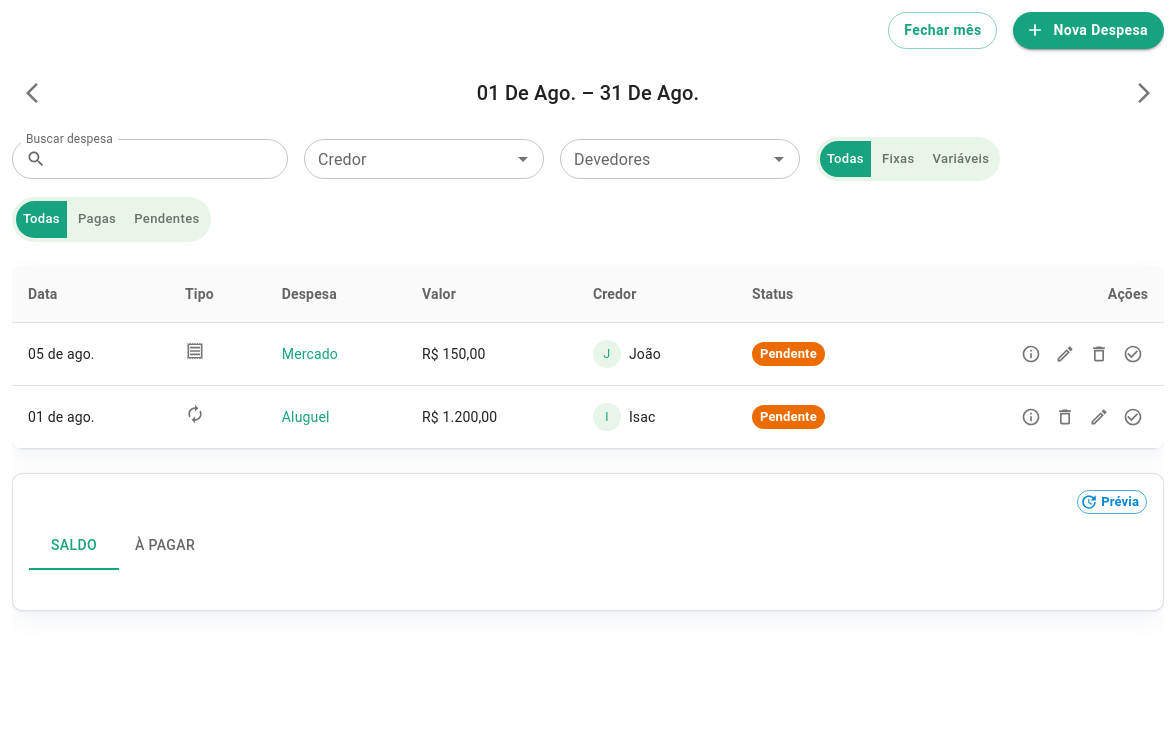
Test: ExpenseManager - listagem em cards › filters by type (Fixas/Variáveis) on the client side
Expected: the link "Aluguel" is shown, [282,409,330,425]
Click the button "Fixas": (898, 159) [874,140,922,177]
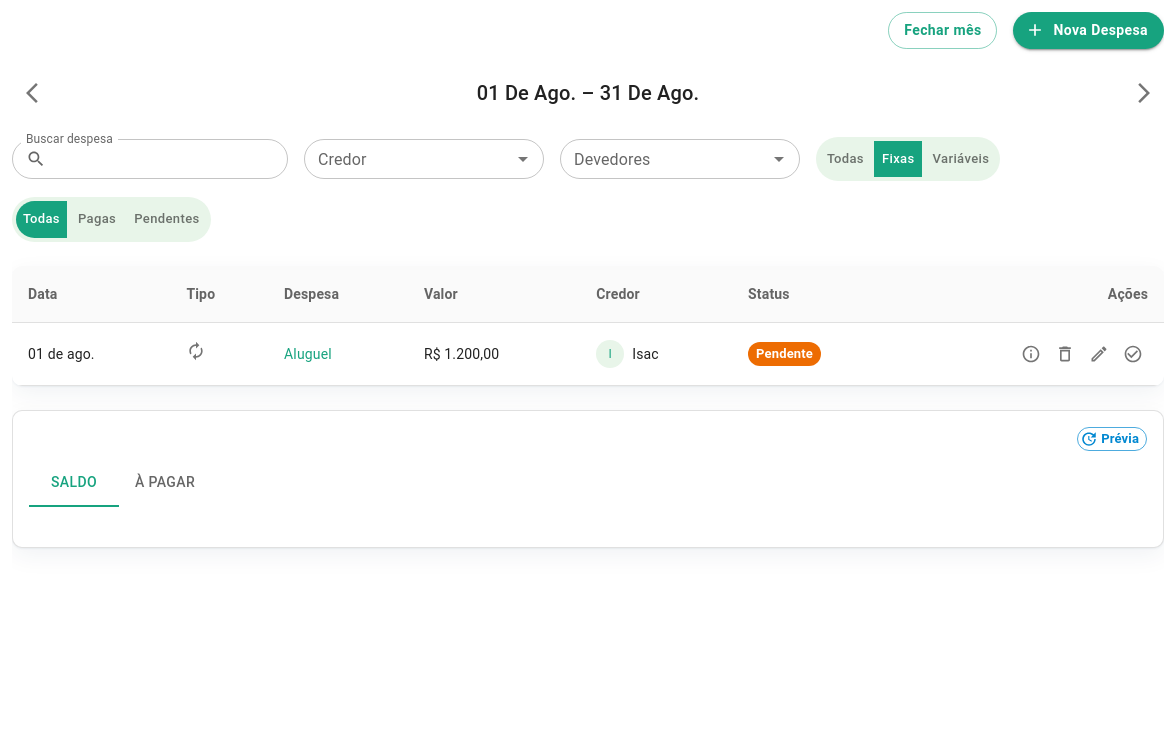
Expected: the link "Aluguel" is shown, [284,346,332,362]
Now the link "Mercado" is gone
